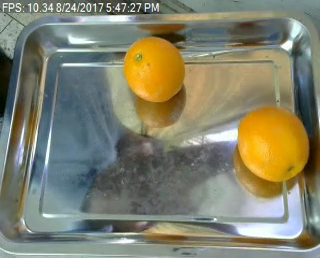Orange: (238, 105, 310, 182), (123, 36, 184, 103)
